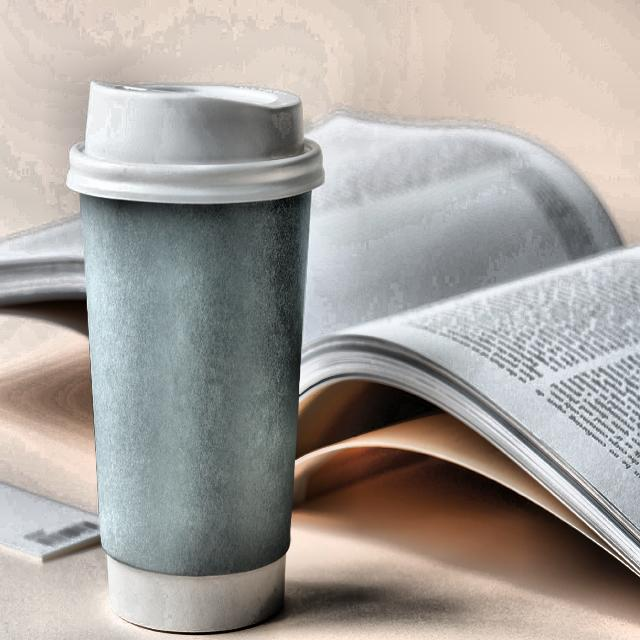Cup: (67, 63, 330, 640)
